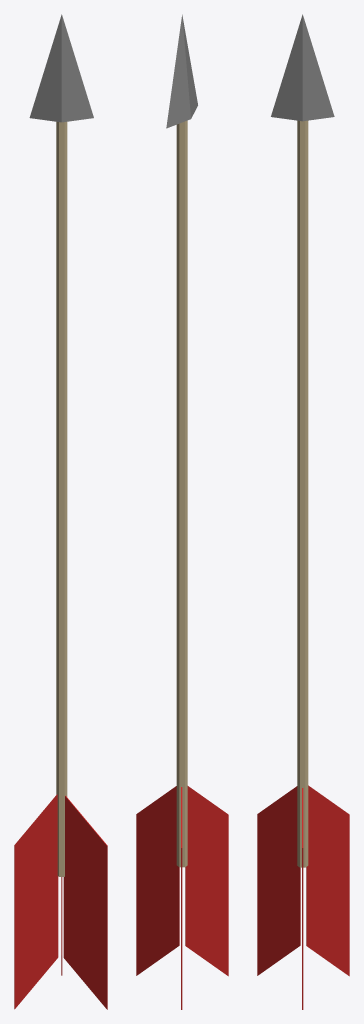
Rendered from arrow.dae.
3 renders of one model, left to right at view 1: azimuth 90°, elevation 25°; view 2: azimuth 150°, elevation 25°; view 3: azimuth 270°, elevation 25°, orthographic.
Parts seen in each view (by area): view 1: Cube_003, Cylinder_001, Cube_002; view 2: Cube_003, Cylinder_001, Cube_002; view 3: Cube_003, Cylinder_001, Cube_002.
Boxes of the visible parts, x1,y1,x2,y2 form: Cube_003: [14, 794, 107, 1009]; Cylinder_001: [56, 121, 67, 876]; Cube_002: [29, 14, 93, 122]; Cube_003: [136, 786, 228, 1009]; Cylinder_001: [176, 120, 187, 867]; Cube_002: [166, 14, 197, 128]; Cube_003: [257, 785, 349, 1009]; Cylinder_001: [297, 120, 308, 867]; Cube_002: [271, 14, 334, 121].
Size of the model in its own units: 0.1914 by 0.2197 by 2.55.
